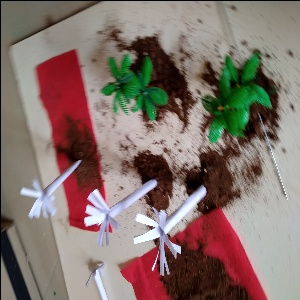plant: (198, 47, 271, 140), (102, 51, 169, 121)
weed: (130, 194, 226, 273), (18, 153, 76, 229), (76, 183, 135, 256), (80, 263, 114, 300)
